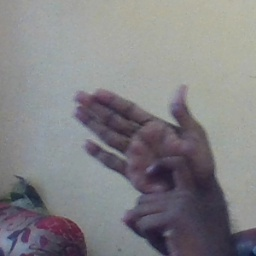R: (60, 78, 227, 238)
